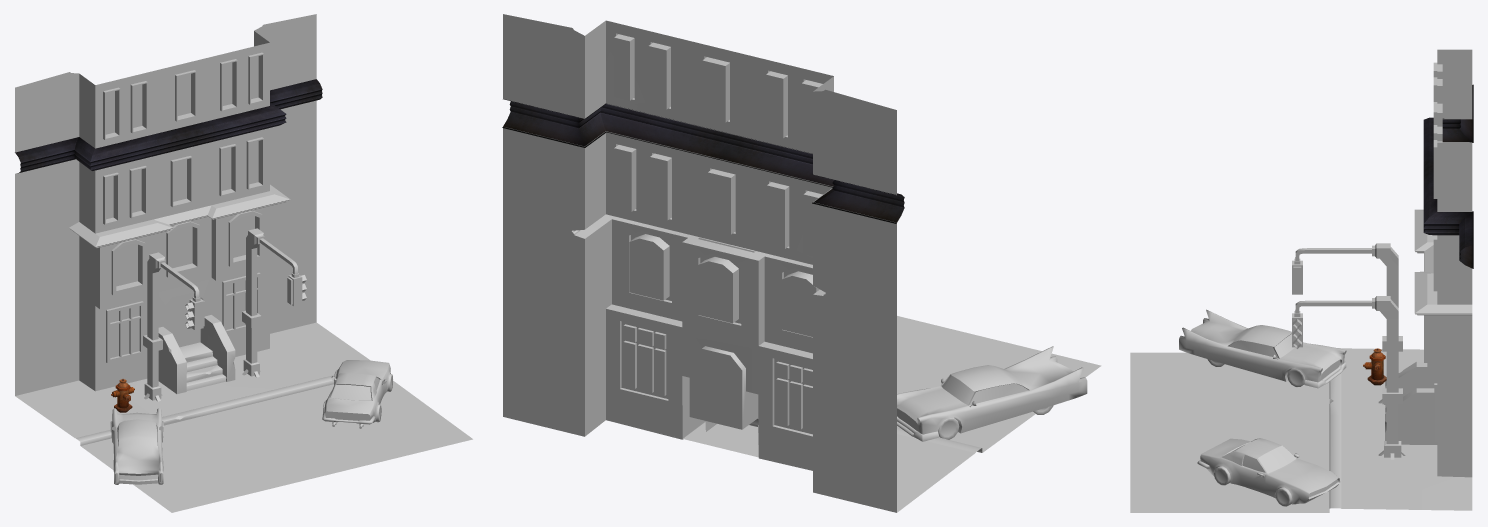
File: GhettoStreet.fbx
3 renders of one model, left to right at view 1: azimuth 30°, elevation 25°; view 2: azimuth 150°, elevation 25°; view 3: azimuth 270°, elevation 25°, orthographic. The views are drawn at different scales.
Visible parts, largest first — view 1: Cube; view 2: Cube; view 3: Cube.
Boxes of the visible parts, left/top/right/bottom form: Cube: left=15, top=14, right=472, bottom=512; Cube: left=502, top=14, right=1101, bottom=512; Cube: left=1130, top=49, right=1473, bottom=512.
Bounding box in the file's own units: 151 × 139 × 126.
